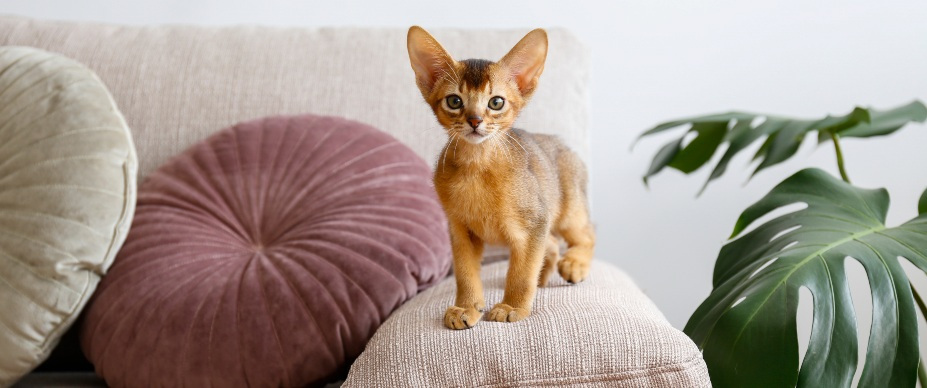cat: (405, 25, 598, 332)
